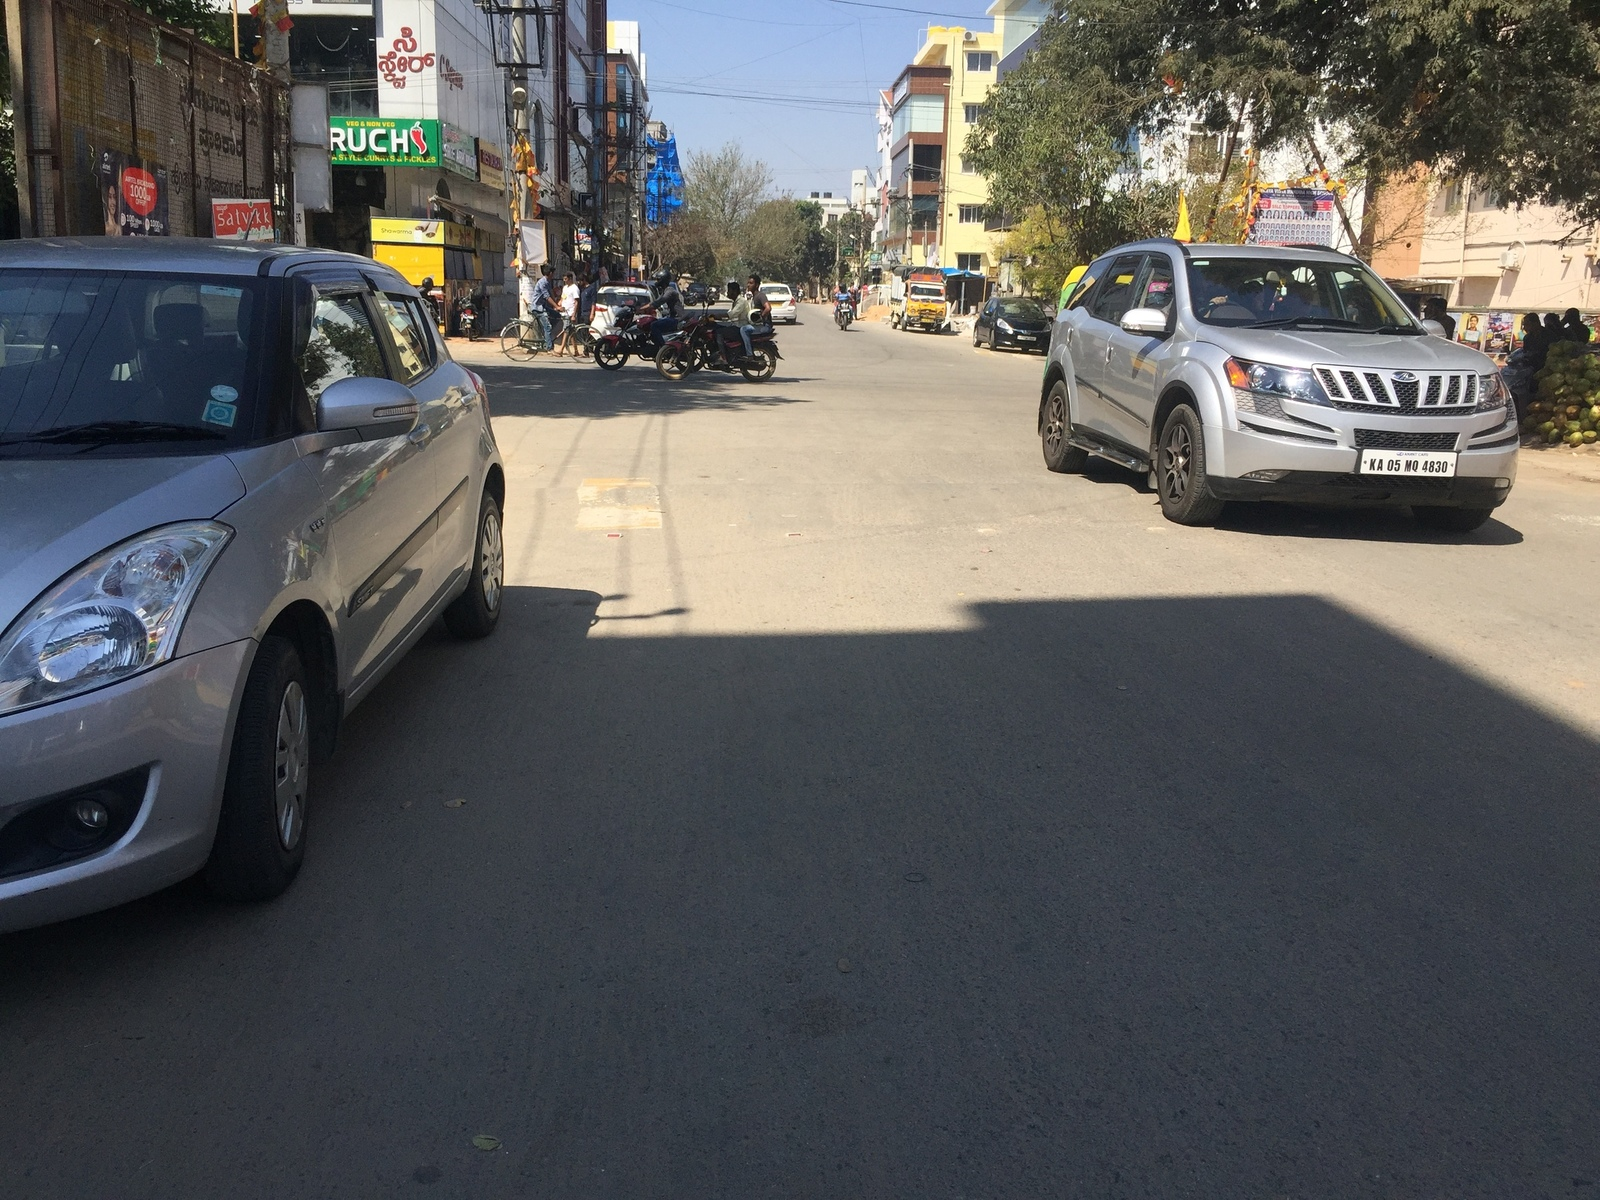bump: (517, 483, 1150, 524)
